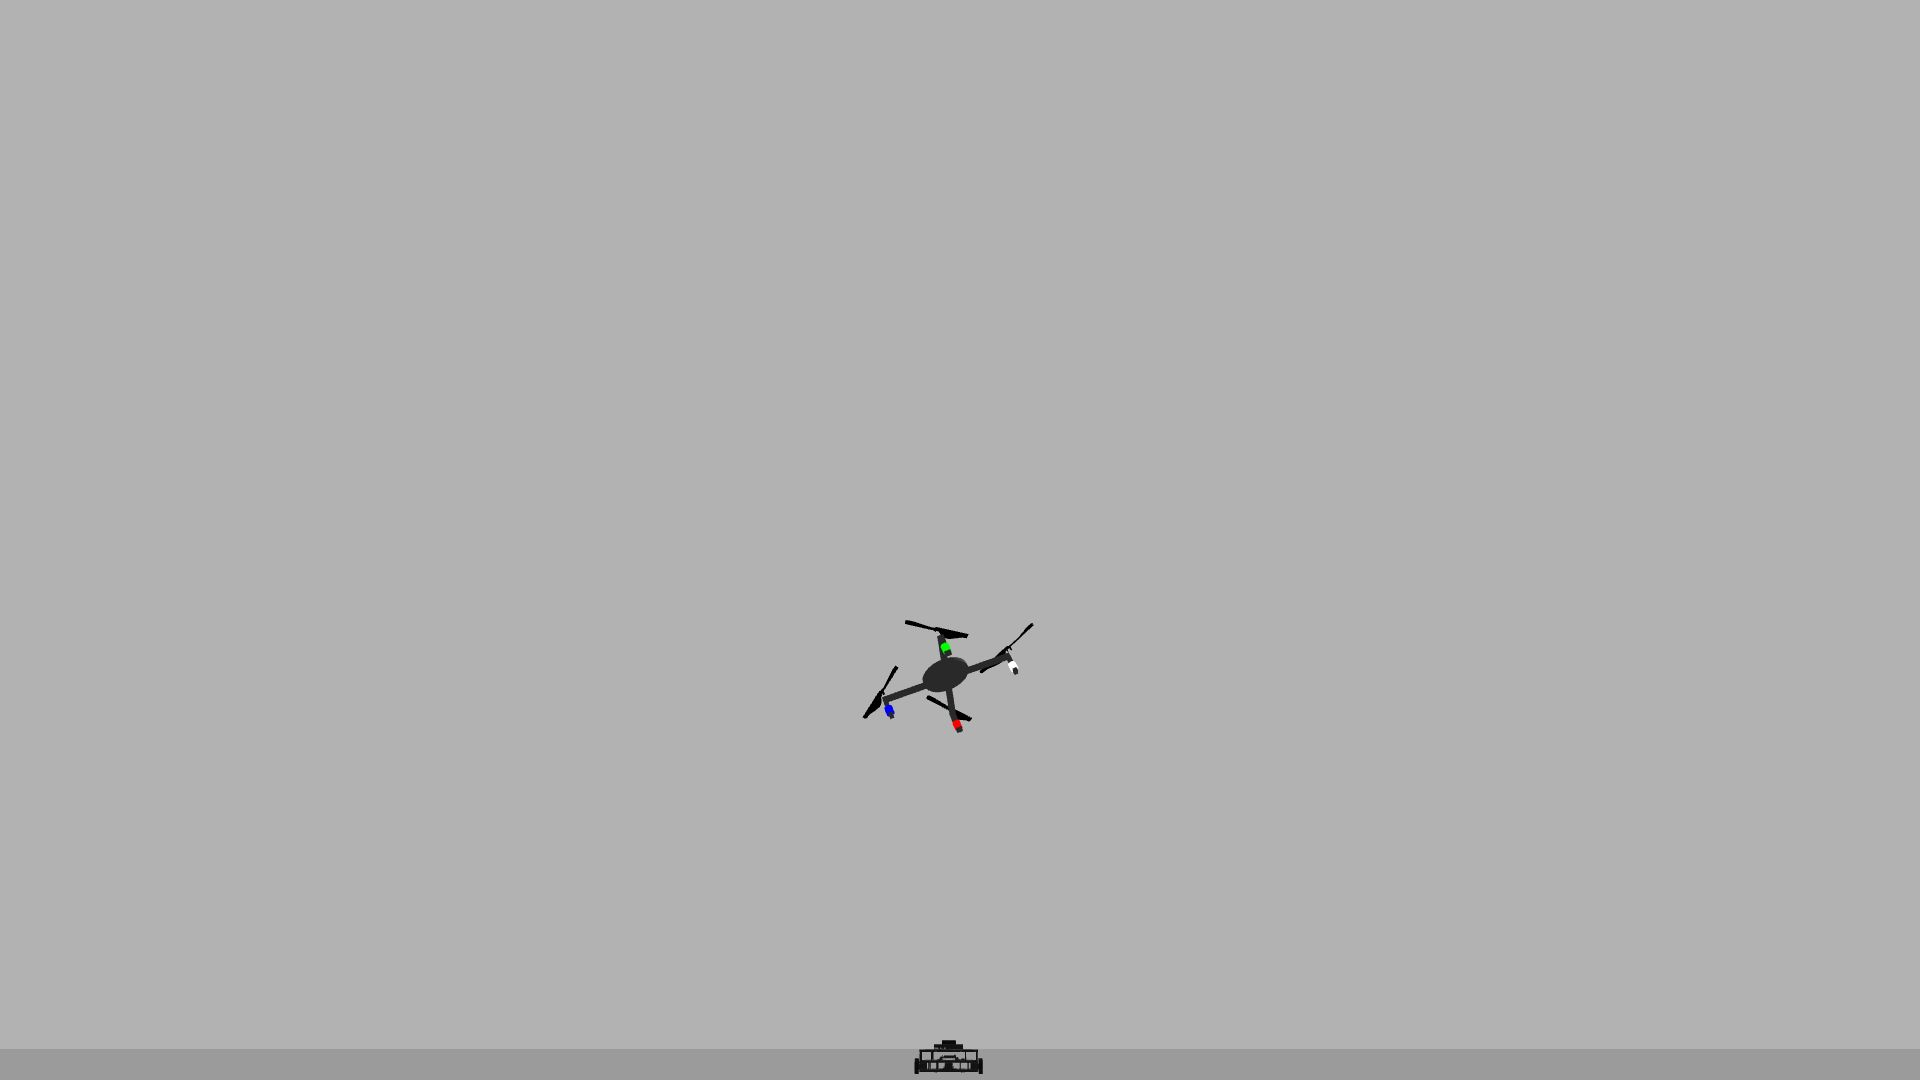drone: (844, 585, 1064, 756)
